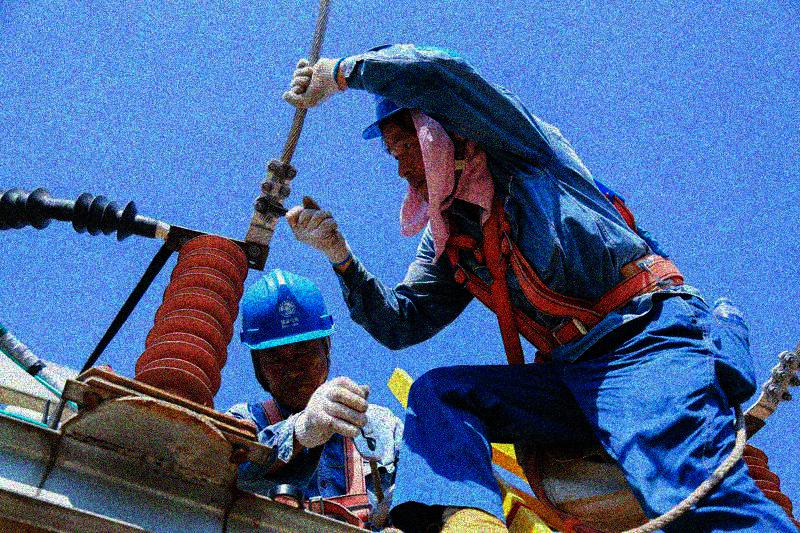helmet: (360, 53, 479, 204), (239, 271, 338, 410)
